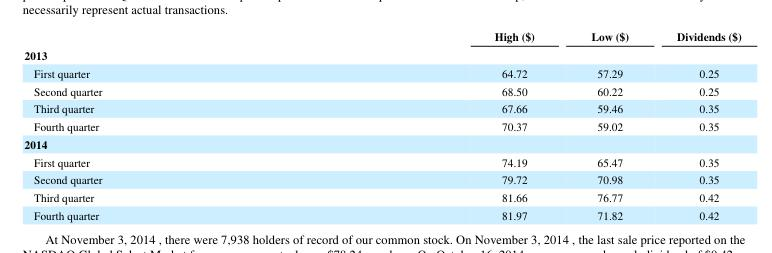table: (23, 28, 740, 222)
table column: (23, 28, 297, 222), (297, 28, 562, 222), (562, 28, 652, 222), (652, 28, 740, 222)
table column header: (23, 28, 740, 45)
table projected row header: (23, 45, 740, 64), (23, 134, 740, 152)
table row: (23, 45, 740, 64), (23, 81, 740, 99), (23, 116, 740, 134), (23, 134, 740, 152), (23, 152, 740, 170), (23, 170, 740, 188), (23, 28, 740, 45), (23, 64, 740, 81), (23, 99, 740, 116), (23, 188, 740, 205), (23, 205, 740, 222)
